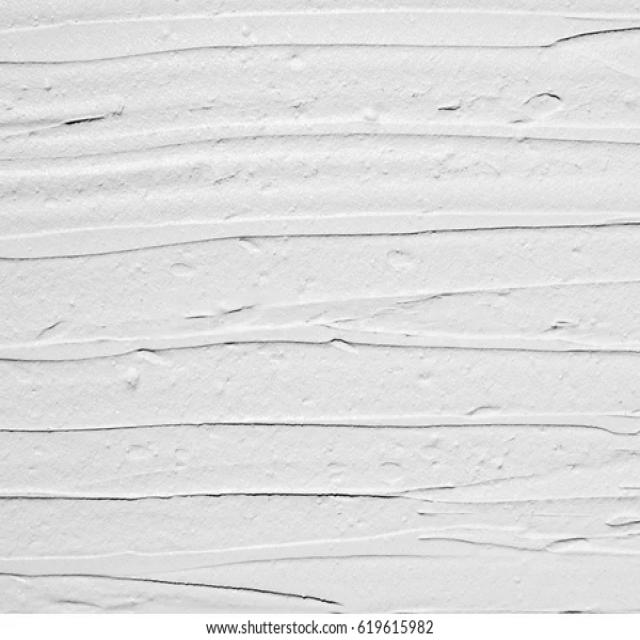rough and patchy surface: (0, 0, 640, 609)
trowels marks: (0, 0, 640, 611)
